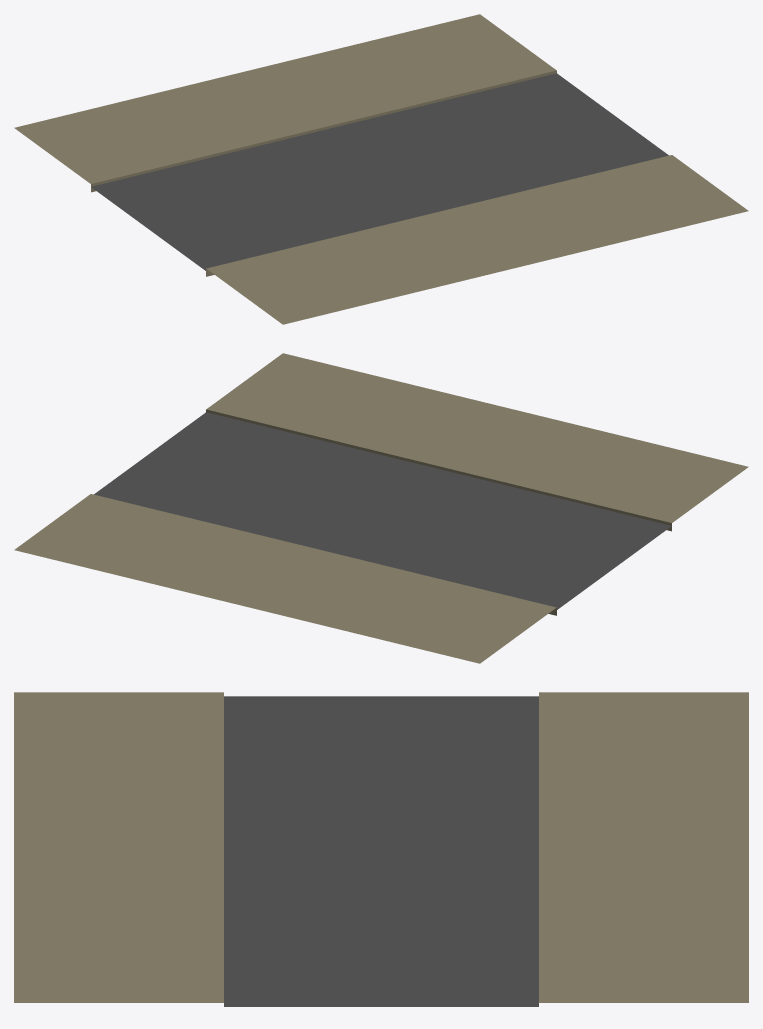
File: OCDCalleRecta.fbx
The picture shows the model from 3 angles, top to bottom: view 1: azimuth 30°, elevation 25°; view 2: azimuth 150°, elevation 25°; view 3: azimuth 270°, elevation 25°; orthographic projection. The views are drawn at different scales.
Visible parts, largest first — view 1: Cube.003; view 2: Cube.003; view 3: Cube.003.
Part boxes in pixels (x1,y1,x2,y2): Cube.003: (14,14,748,324); Cube.003: (14,353,748,663); Cube.003: (14,692,748,1006).
Bounding box in the file's own units: 3500 × 60 × 3500.
